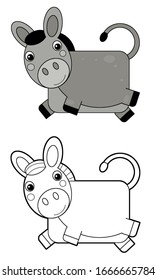animal: (5, 138, 155, 253), (10, 7, 151, 125)
